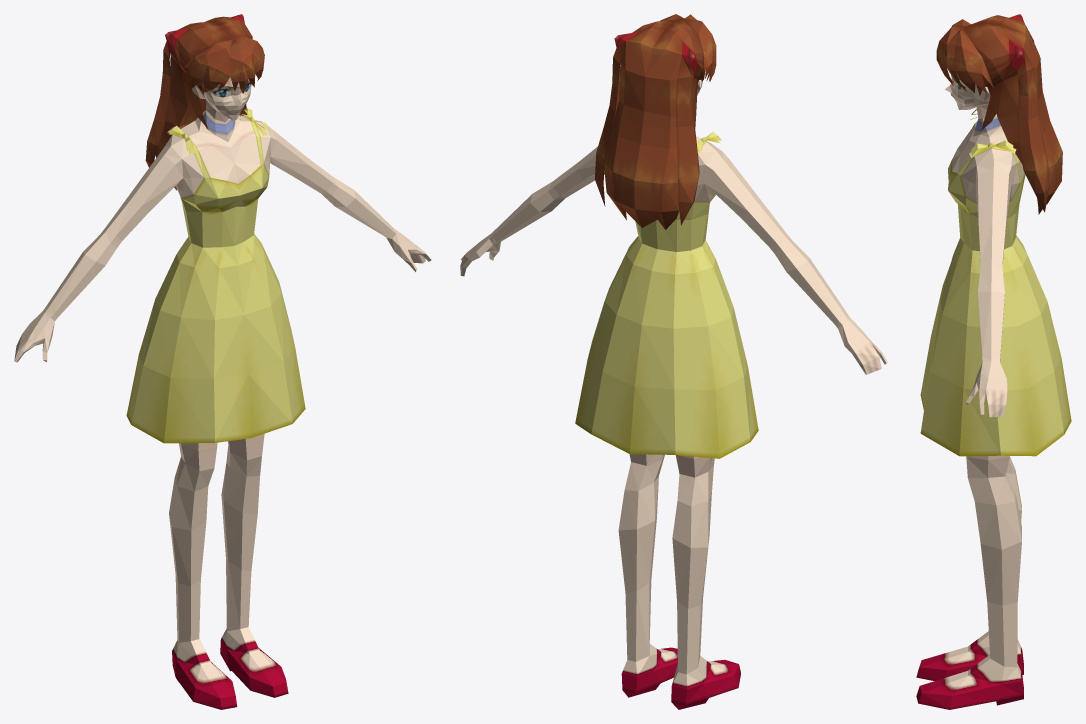
File: Asuka Dress.obj
The picture shows the model from 3 angles, left to right: view 1: azimuth 30°, elevation 25°; view 2: azimuth 150°, elevation 25°; view 3: azimuth 270°, elevation 25°; orthographic projection. The views are drawn at different scales.
Visible parts, largest first — view 1: SMDImport; view 2: SMDImport; view 3: SMDImport.
Boxes of the visible parts, left/top/right/bottom form: SMDImport: left=14, top=14, right=431, bottom=709; SMDImport: left=460, top=14, right=887, bottom=709; SMDImport: left=916, top=14, right=1071, bottom=709.
Size of the model in its own units: 251 by 375 by 79.46.
